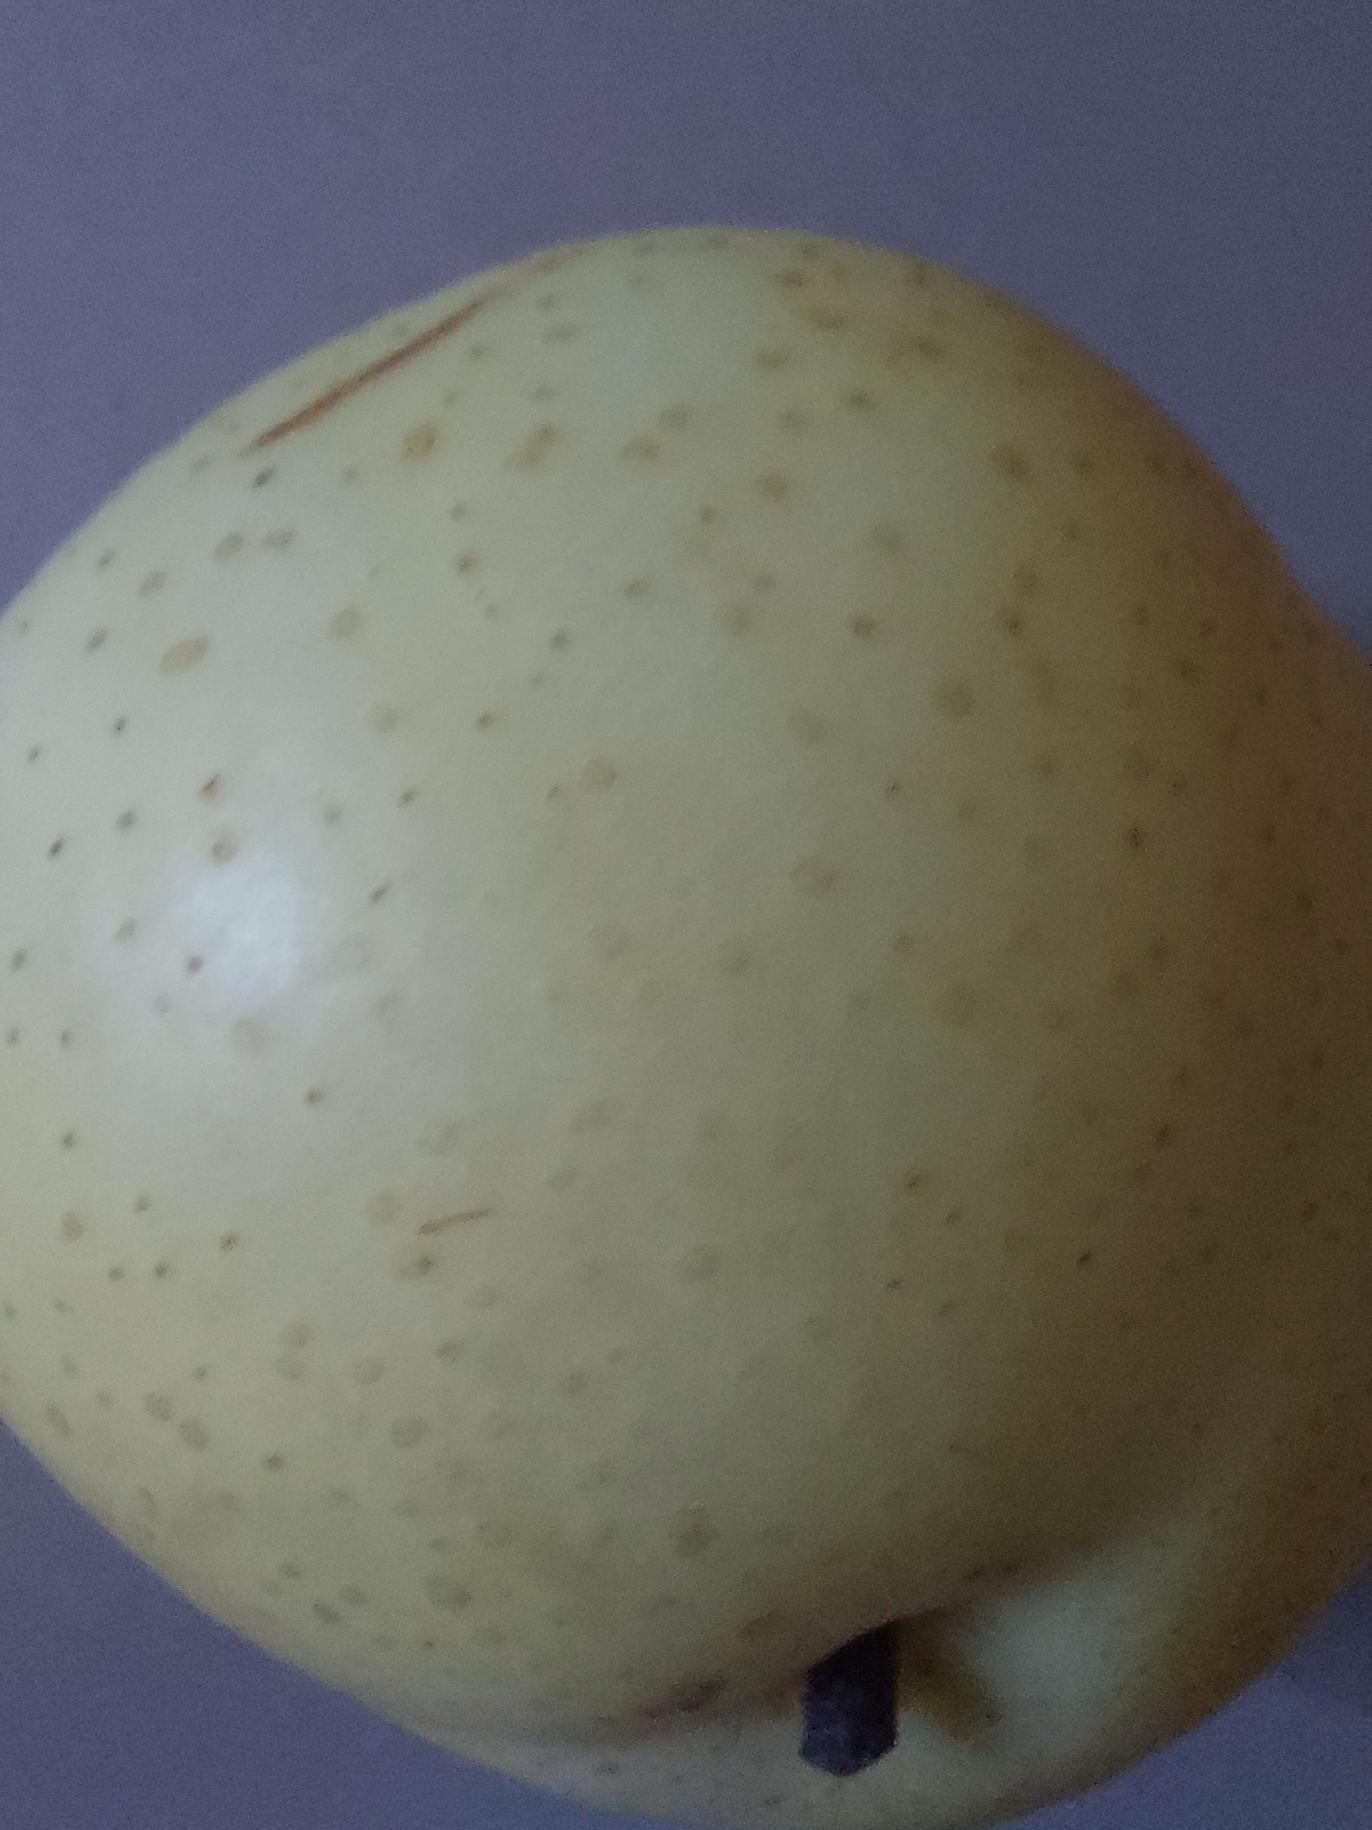Good Pear: (0, 212, 1372, 1830)
